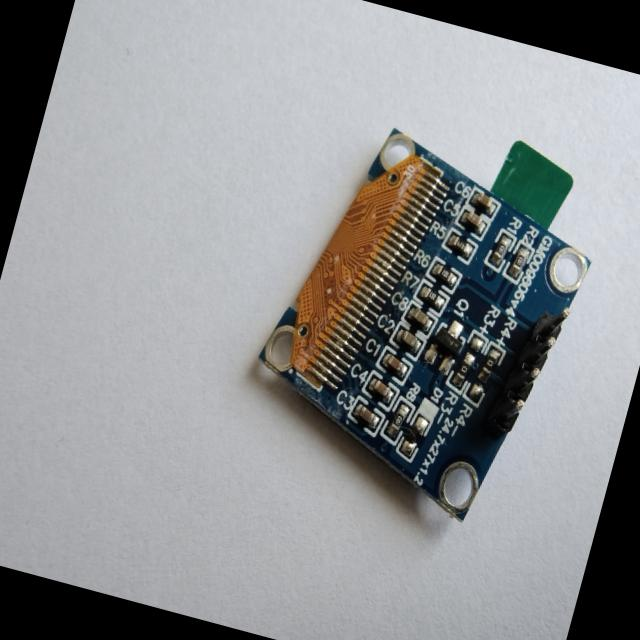oled: (236, 91, 628, 562)
